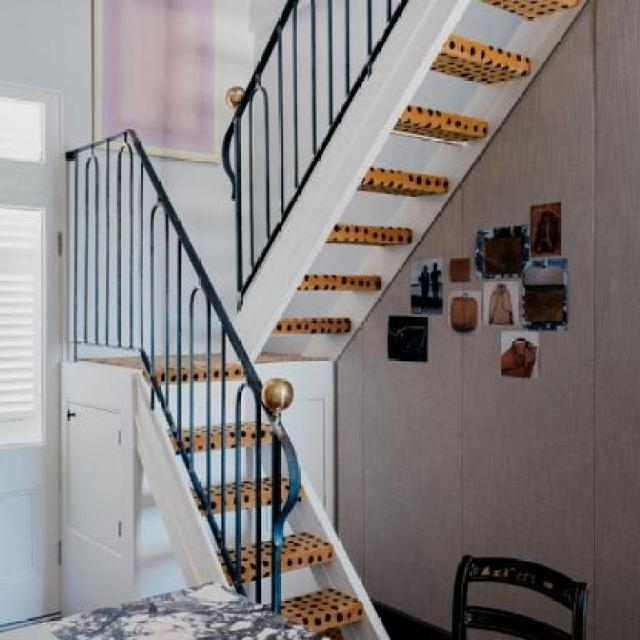stair: (50, 228, 441, 640)
